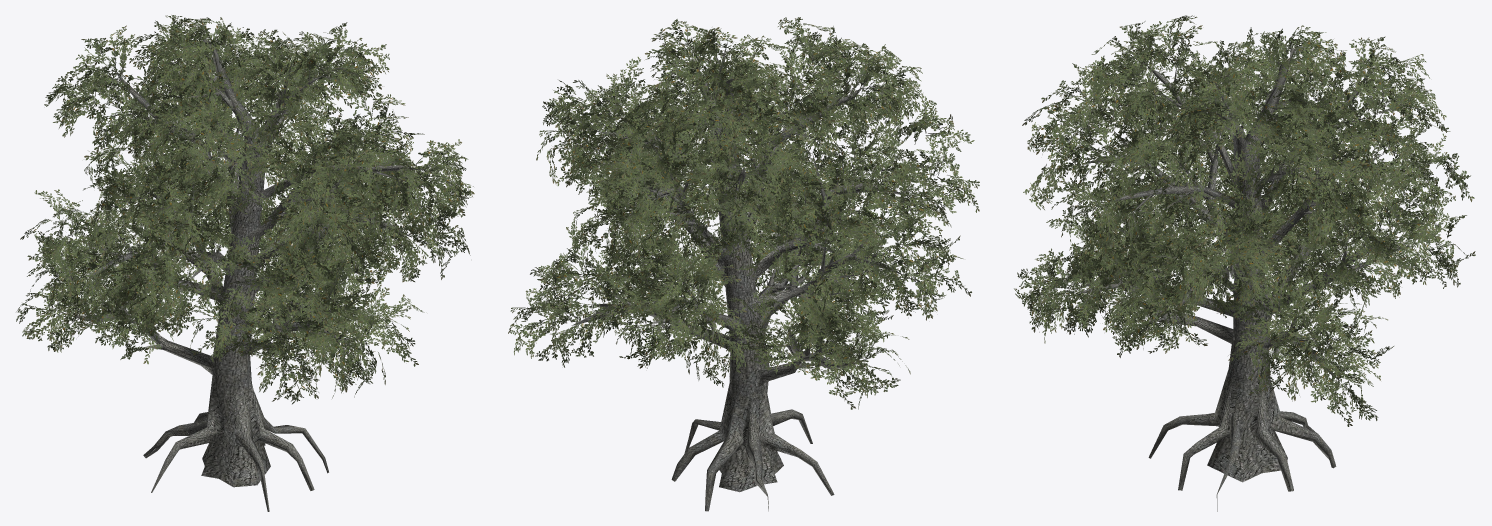
The model's file is encina.glb.
3 renders of one model, left to right at view 1: azimuth 30°, elevation 25°; view 2: azimuth 150°, elevation 25°; view 3: azimuth 270°, elevation 25°, orthographic.
Visible parts, largest first — view 1: Oak01_LOD0_M_Branch.004_0, Oak01_LOD0_M_Bark.004_0; view 2: Oak01_LOD0_M_Branch.004_0, Oak01_LOD0_M_Bark.004_0; view 3: Oak01_LOD0_M_Branch.004_0, Oak01_LOD0_M_Bark.004_0.
Boxes of the visible parts, x1=… form: Oak01_LOD0_M_Branch.004_0: x1=16, y1=15, x2=474, y2=404; Oak01_LOD0_M_Bark.004_0: x1=56, y1=39, x2=420, y2=511; Oak01_LOD0_M_Branch.004_0: x1=508, y1=17, x2=979, y2=409; Oak01_LOD0_M_Bark.004_0: x1=571, y1=40, x2=907, y2=511; Oak01_LOD0_M_Branch.004_0: x1=1014, y1=15, x2=1475, y2=426; Oak01_LOD0_M_Bark.004_0: x1=1075, y1=48, x2=1415, y2=511.
Size of the model in its own units: 22.98 by 24.2 by 23.31.
Materials: 2 (2 with a texture image).
